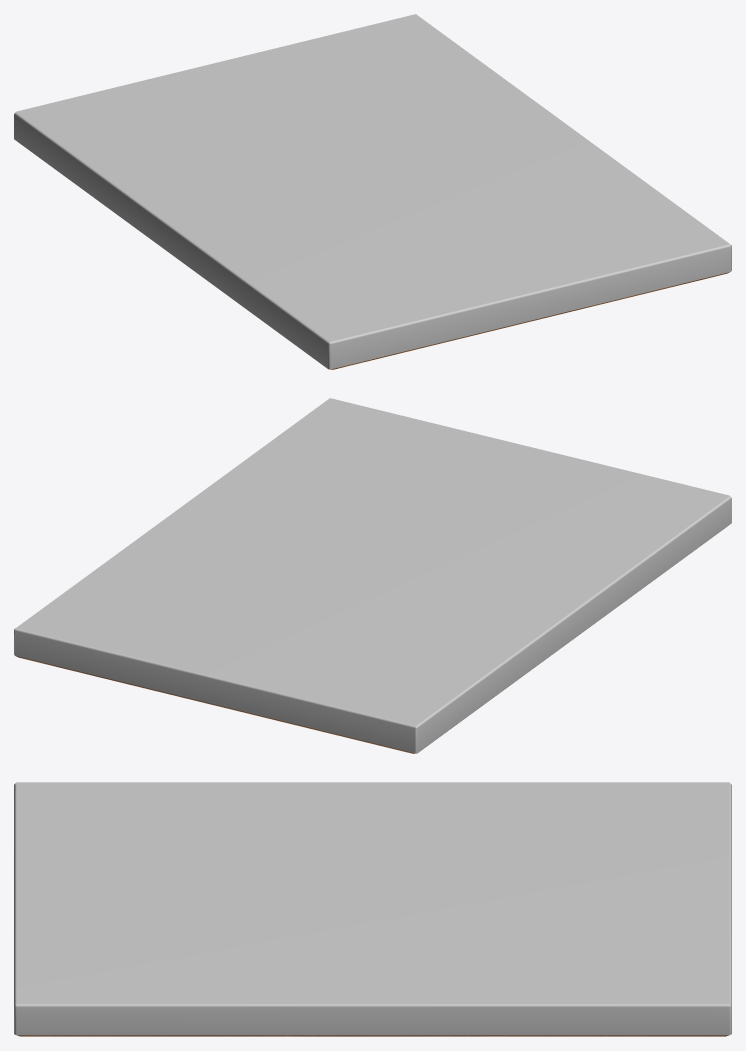
The model's file is SM_artpractice_sketch_03.fbx.
3 views of the same model, one above another, from view 1: azimuth 30°, elevation 25°; view 2: azimuth 150°, elevation 25°; view 3: azimuth 270°, elevation 25° (orthographic). The views are drawn at different scales.
Visible parts, largest first — view 1: artpractice11; view 2: artpractice11; view 3: artpractice11.
Boxes of the visible parts, x1,y1,x2,y2 form: artpractice11: (14,14,731,369); artpractice11: (14,398,731,753); artpractice11: (14,782,731,1036).
Bounding box in the file's own units: 20.71 × 1.43 × 28.09.
